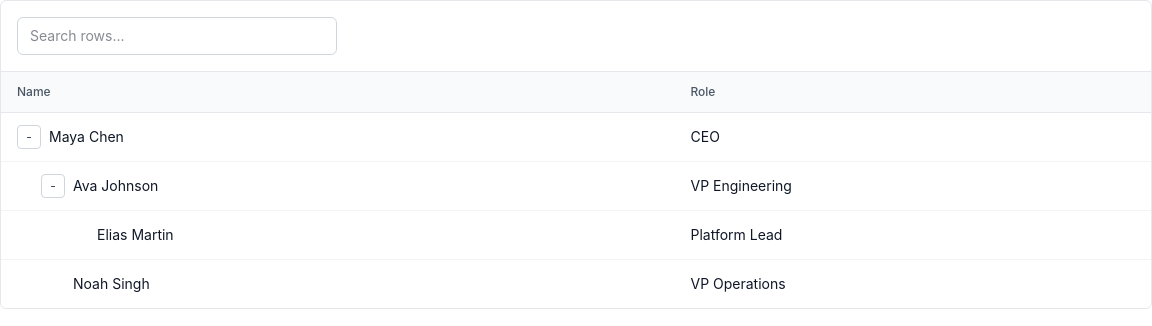
Test: TreeList › supports match-only filtering
Step 1. Type "platform" into the search field labelled "Search rows" → [177, 36], box x1=17 y1=17 x2=337 y2=55
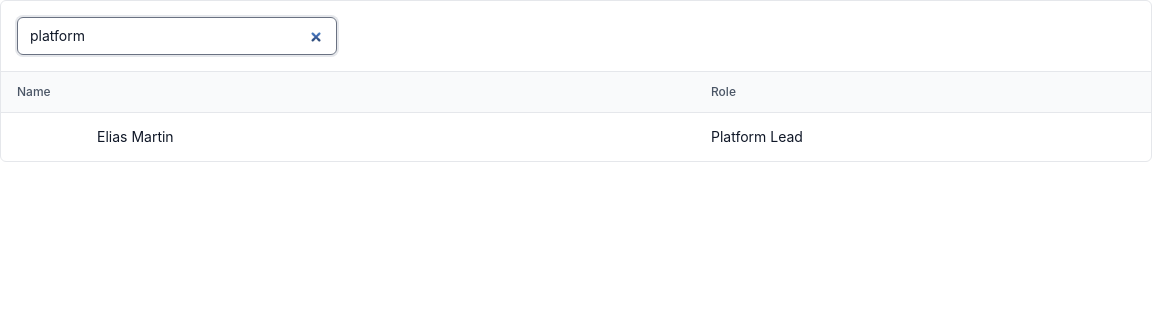
Check: the text "Elias Martin" is shown, box x1=97 y1=127 x2=174 y2=147
Check: the text "Maya Chen" is gone
Check: the text "Ava Johnson" is gone
